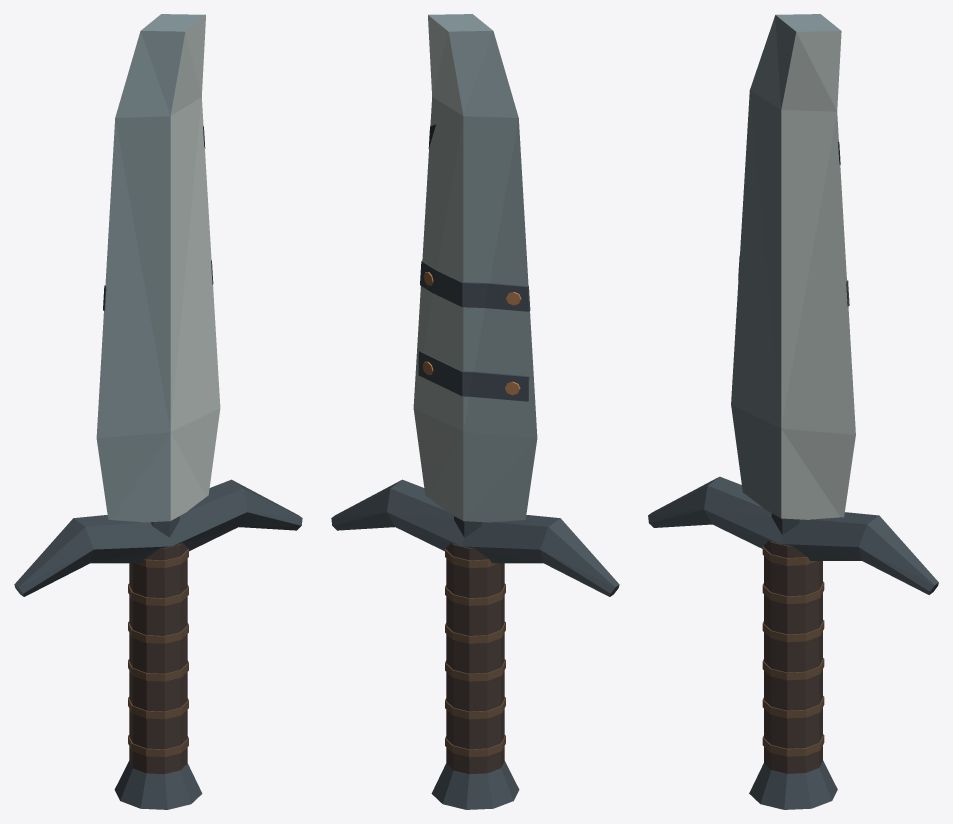
The model's file is AEW_Sword_VeteranRemnant.fbx.
The picture shows the model from 3 angles, left to right: view 1: azimuth 30°, elevation 25°; view 2: azimuth 150°, elevation 25°; view 3: azimuth 330°, elevation 25°; orthographic projection.
Parts seen in each view (by area): view 1: AEW_Sword_VeteranRemnant; view 2: AEW_Sword_VeteranRemnant; view 3: AEW_Sword_VeteranRemnant.
Part boxes in pixels (left/top/right/bottom): AEW_Sword_VeteranRemnant: left=14, top=14, right=302, bottom=809; AEW_Sword_VeteranRemnant: left=331, top=14, right=619, bottom=809; AEW_Sword_VeteranRemnant: left=648, top=14, right=938, bottom=809.
Size of the model in its own units: 0.3673 by 0.945 by 0.0942.
